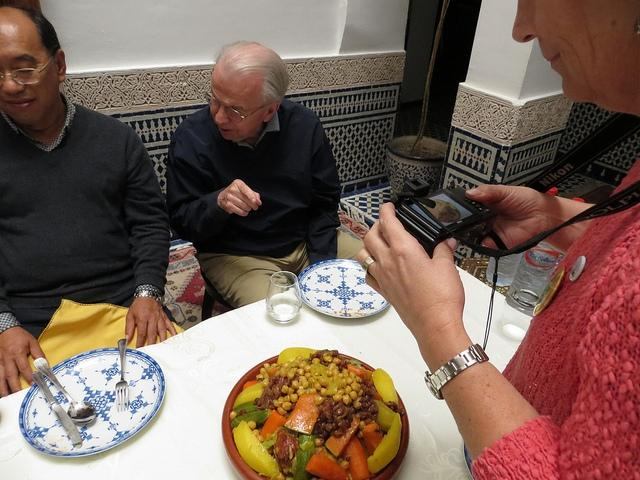carrot: (282, 393, 320, 435), (325, 414, 360, 458), (342, 436, 370, 480), (305, 454, 350, 480), (260, 409, 286, 439), (362, 423, 382, 456), (348, 364, 366, 377), (266, 364, 284, 376), (242, 380, 260, 390)
